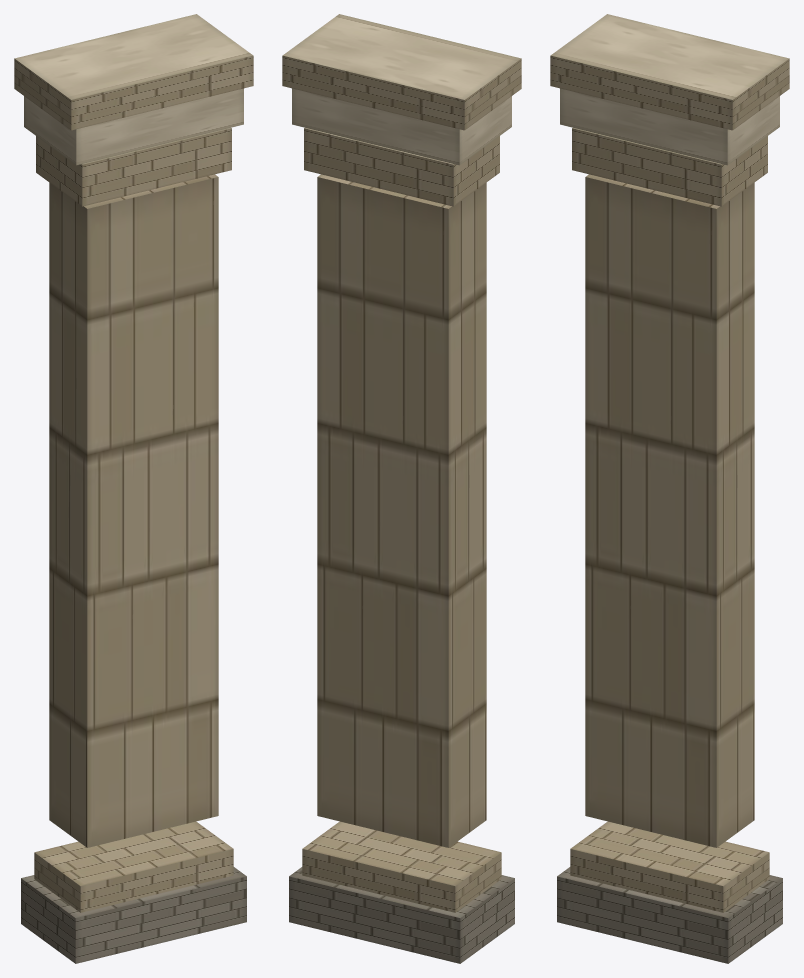
File: ae_duel_stone_pillar_lod2.glb
3 views of the same model, side by side, from view 1: azimuth 30°, elevation 25°; view 2: azimuth 150°, elevation 25°; view 3: azimuth 330°, elevation 25° (orthographic).
Visible parts, largest first — view 1: ae_duel_stone_pillar_lod2; view 2: ae_duel_stone_pillar_lod2; view 3: ae_duel_stone_pillar_lod2.
Boxes of the visible parts, x1,y1,x2,y2 form: ae_duel_stone_pillar_lod2: (14,14,253,963); ae_duel_stone_pillar_lod2: (282,14,521,963); ae_duel_stone_pillar_lod2: (550,14,789,963).
Size of the model in its own units: 0.9998 by 4.54 by 0.5398.
1 material, 1 textured.
